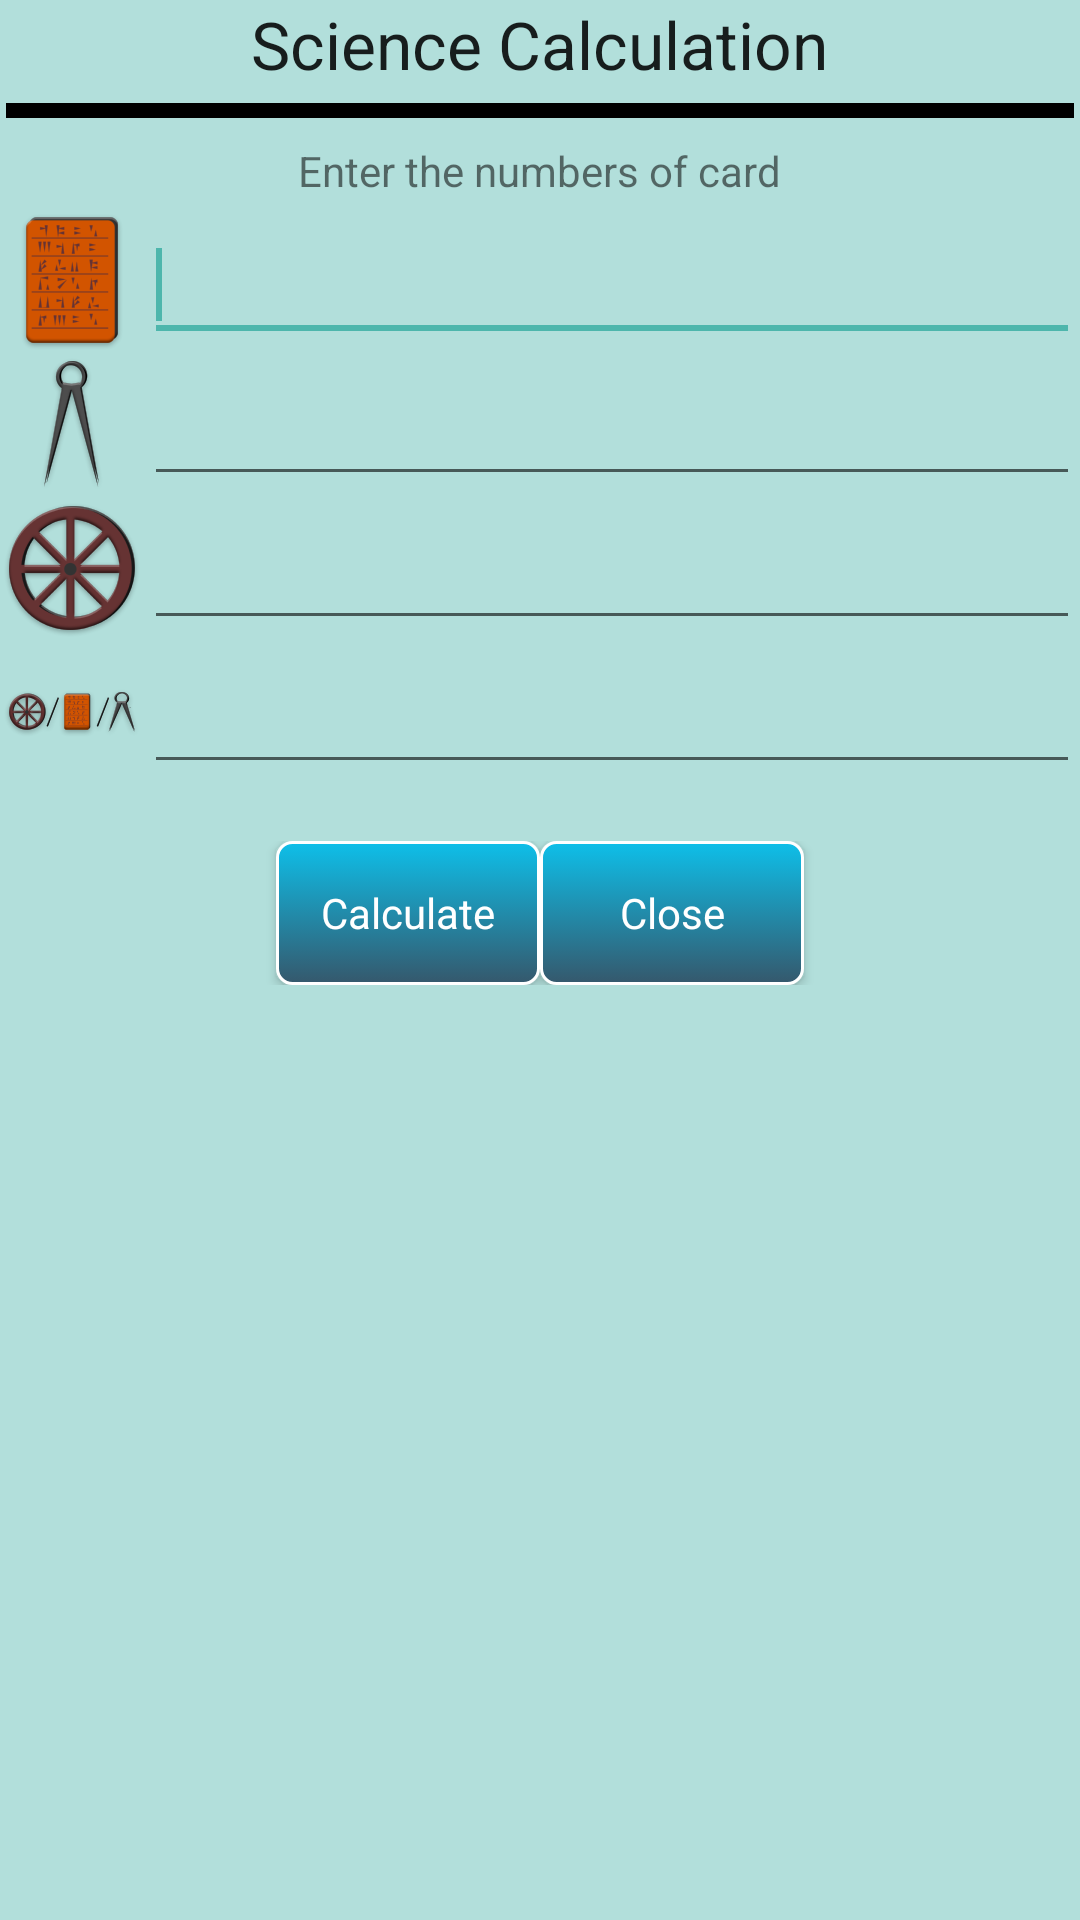

Icons on this 1080x1920 Android screen, each with its box as Rect(x1, y1, x2, y2):
all: Rect(8, 692, 135, 733)
caliper: Rect(44, 361, 99, 486)
plate: Rect(25, 217, 119, 346)
